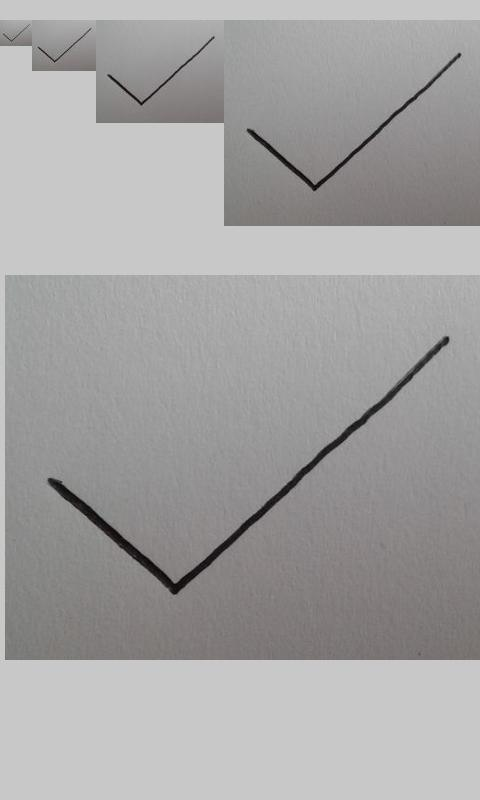check_box: (48, 336, 450, 594), (246, 53, 460, 191), (107, 36, 214, 106), (38, 28, 92, 63), (3, 24, 30, 42)
